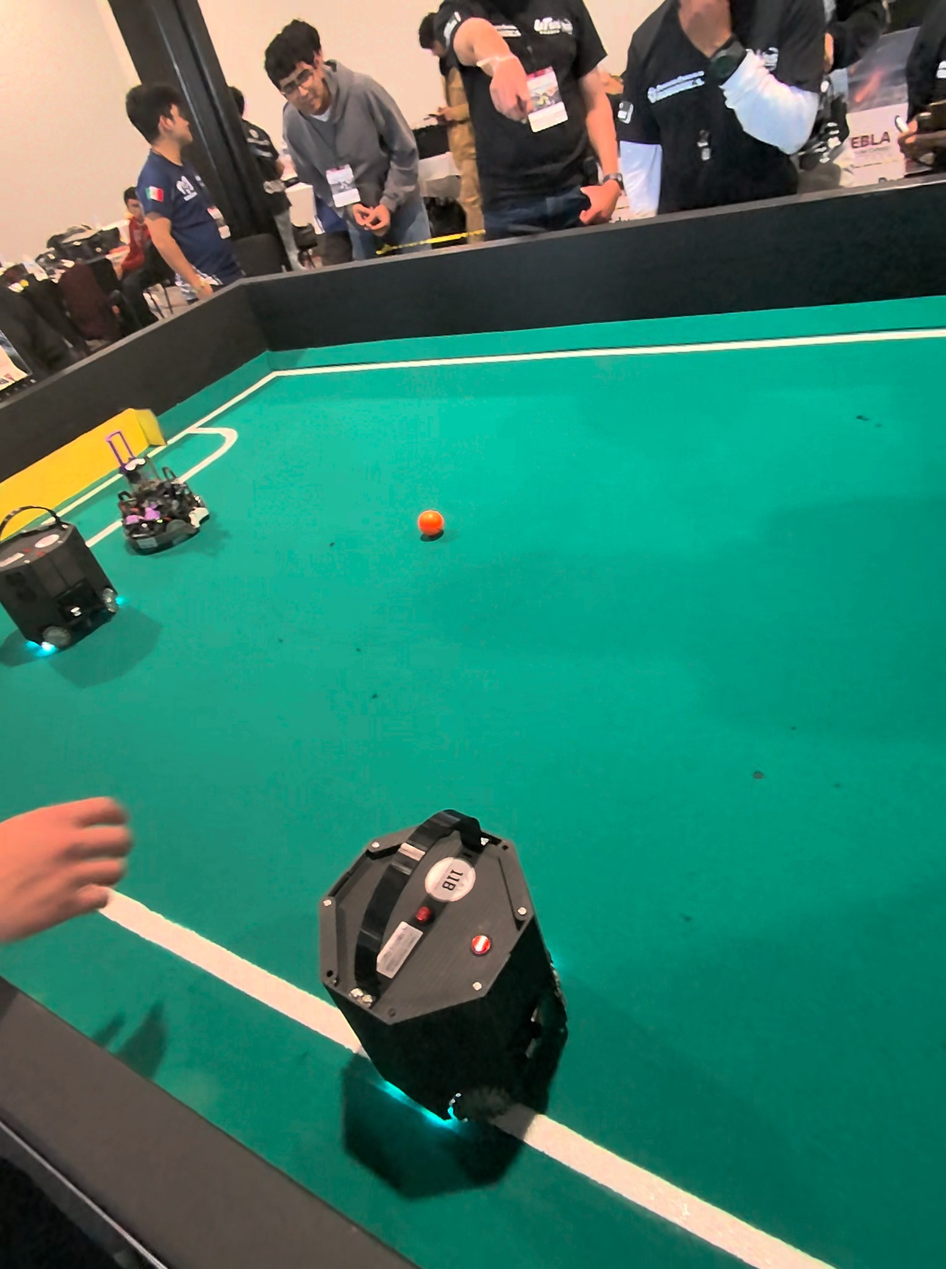Robot: (311, 790, 589, 1161), (3, 495, 146, 675), (104, 409, 210, 562)
